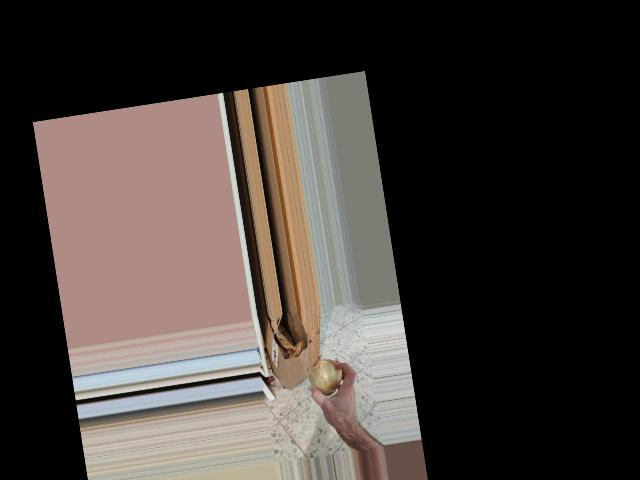onion: (304, 352, 347, 398)
